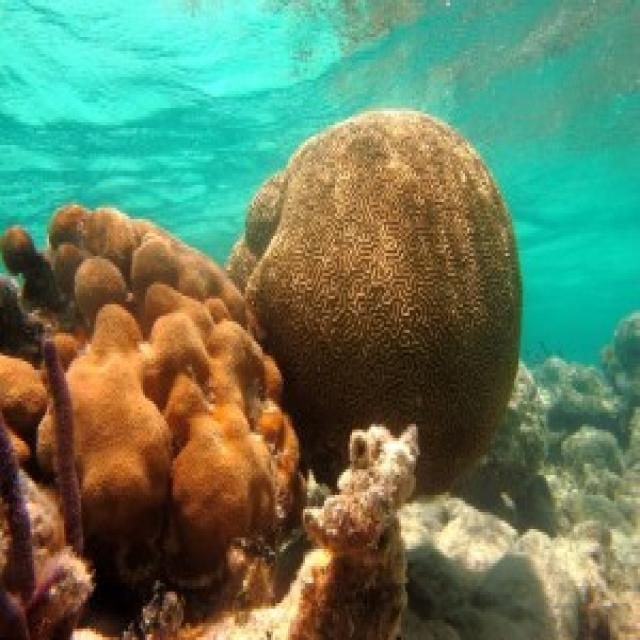Coral: (223, 106, 522, 502), (0, 204, 299, 588)
